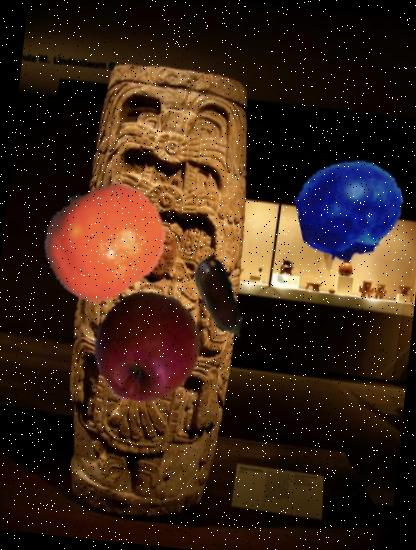Apple: (85, 286, 210, 410)
Clementine: (36, 173, 173, 310)
Eggplant: (171, 250, 270, 349)
Huckleberry: (292, 152, 408, 268)
